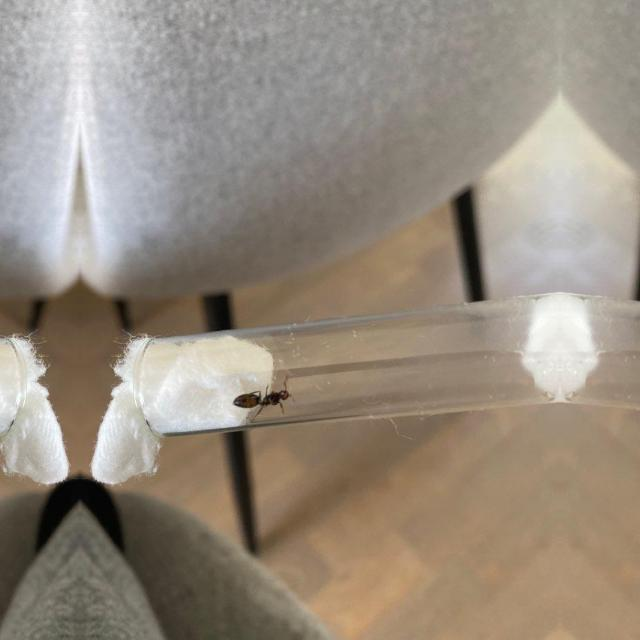Tetramorium: (228, 378, 296, 418)
